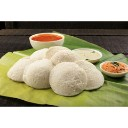idly: (50, 62, 87, 95), (26, 60, 53, 89), (79, 61, 103, 90), (7, 54, 32, 81), (47, 47, 78, 67)
